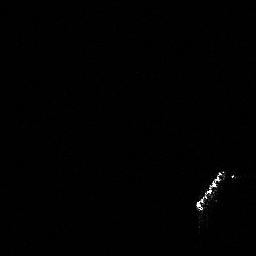ship: (194, 169, 238, 230)
